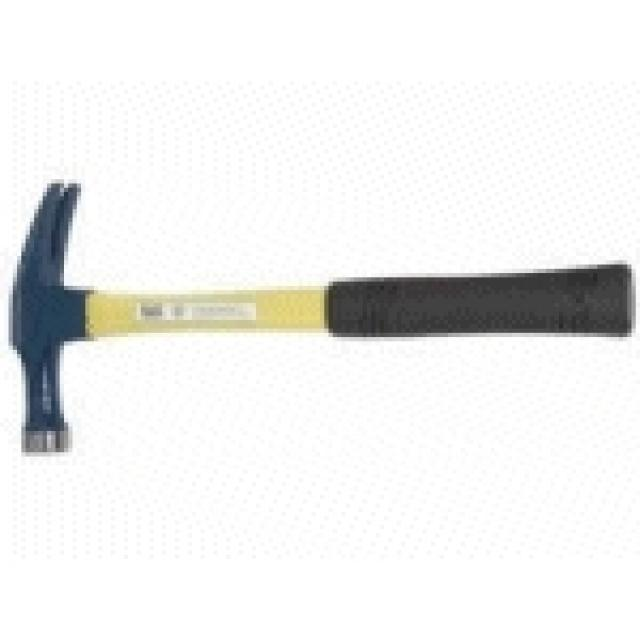hammer: (0, 174, 640, 464)
